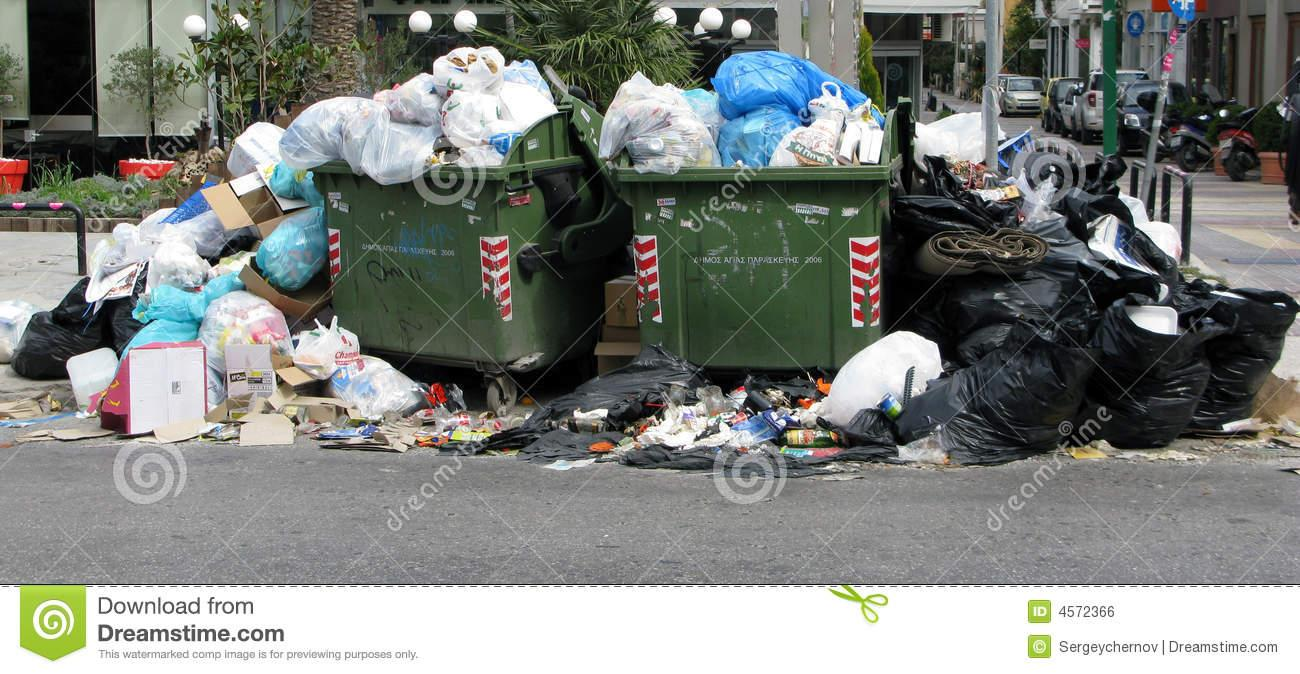garbage: (0, 30, 1300, 498)
